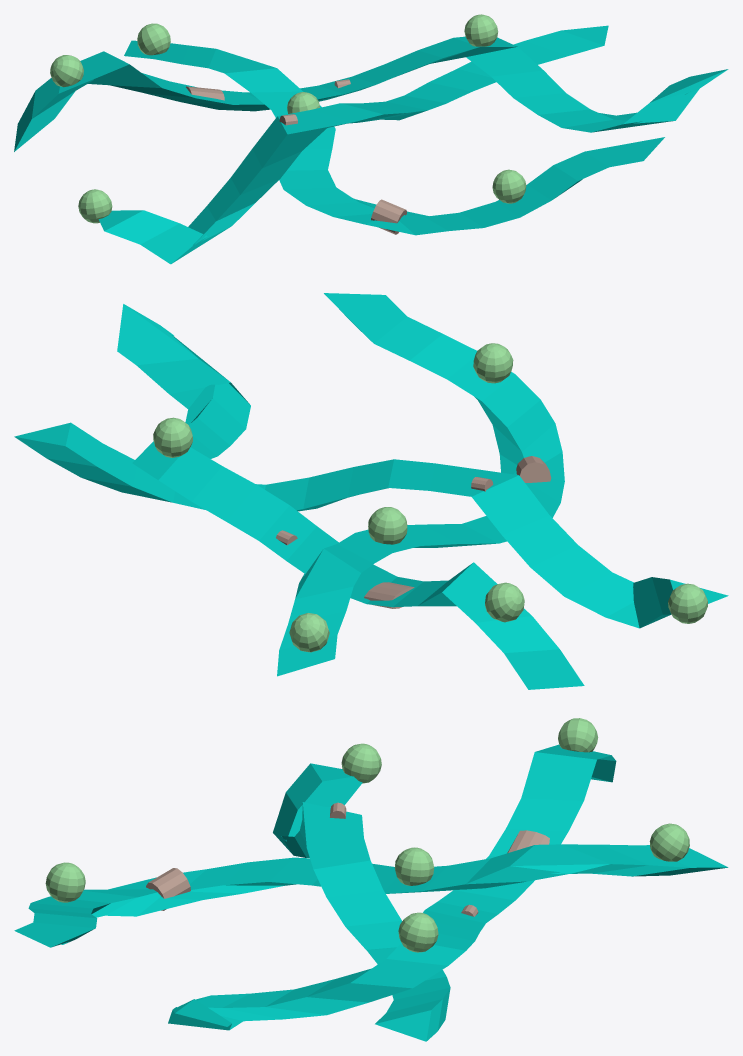
The model's file is seaweed.glb.
3 views of the same model, one above another, from view 1: azimuth 30°, elevation 25°; view 2: azimuth 150°, elevation 25°; view 3: azimuth 270°, elevation 25° (orthographic). The views are drawn at different scales.
Visible parts, largest first — view 1: group1798227783, group1279500227, group854818970, group83348571, group1451996978, group1217648503, group1325965529, group831290528, group1503487713, group1410293642; view 2: group1798227783, group1279500227, group854818970, group83348571, group1217648503, group1451996978, group831290528, group1325965529, group1410293642, group1503487713, group47405767; view 3: group1798227783, group854818970, group1279500227, group1451996978, group83348571, group1325965529, group1410293642, group1217648503, group831290528, group1503487713, group47405767.
Boxes of the visible parts, box(x1,y1,x2,y2) form: group1798227783: box(14, 36, 728, 151); group1279500227: box(98, 25, 608, 264); group854818970: box(124, 40, 664, 235); group83348571: box(492, 169, 526, 203); group1451996978: box(464, 14, 498, 46); group1217648503: box(78, 189, 112, 223); group1325965529: box(137, 23, 170, 55); group831290528: box(50, 55, 83, 87); group1503487713: box(371, 199, 406, 234); group1410293642: box(287, 92, 319, 113); group1798227783: box(117, 304, 584, 689); group1279500227: box(14, 422, 728, 628); group854818970: box(277, 293, 564, 676); group83348571: box(473, 343, 513, 383); group1217648503: box(668, 583, 707, 623); group1451996978: box(153, 417, 192, 457); group831290528: box(485, 582, 524, 622); group1325965529: box(289, 613, 329, 652); group1410293642: box(368, 507, 407, 544); group1503487713: box(516, 456, 551, 482); group47405767: box(364, 582, 414, 608); group1798227783: box(168, 744, 616, 1030); group854818970: box(14, 844, 728, 947); group1279500227: box(273, 763, 450, 1041); group1451996978: box(398, 912, 438, 952); group83348571: box(45, 862, 85, 902); group1325965529: box(649, 823, 689, 861); group1410293642: box(394, 847, 434, 885); group1217648503: box(341, 743, 381, 783); group831290528: box(558, 718, 598, 752); group1503487713: box(146, 868, 190, 910); group47405767: box(507, 830, 549, 853).
Size of the model in its own units: 0.9642 by 0.1874 by 0.8855.
